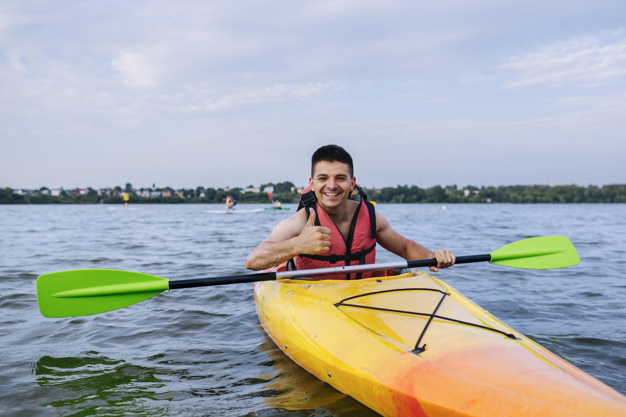thumbsup: (307, 207, 331, 254)
